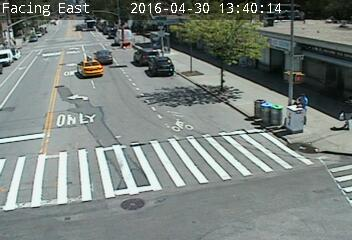neg: (275, 58, 300, 91), (275, 19, 295, 46), (149, 49, 169, 75), (244, 94, 263, 120), (207, 68, 225, 93), (179, 51, 195, 73), (111, 29, 126, 50), (94, 44, 109, 64)
pos: (291, 92, 315, 124), (332, 93, 351, 132), (8, 34, 18, 48), (19, 32, 29, 45)
